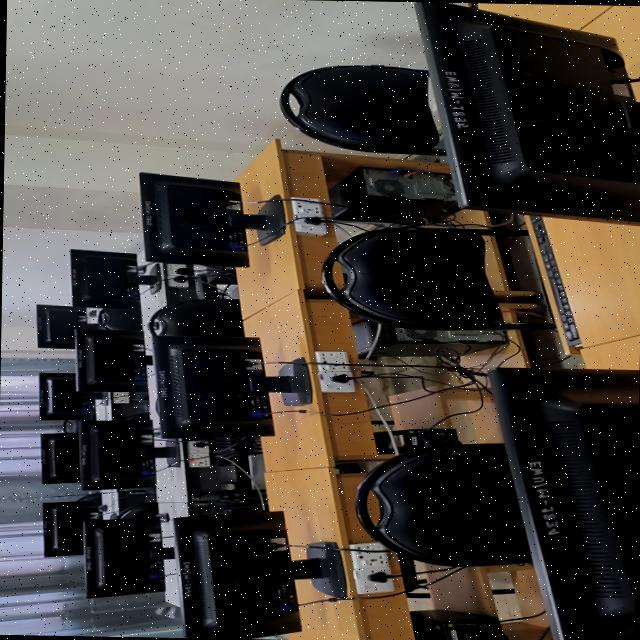Chair: (321, 227, 555, 330), (355, 443, 530, 566), (278, 65, 444, 155), (147, 298, 243, 336), (94, 308, 139, 331), (108, 502, 157, 518)
Cpu: (328, 167, 454, 223), (352, 319, 506, 358)
Keyboard: (530, 216, 580, 346)
Monitor: (413, 2, 640, 225), (489, 368, 639, 640), (172, 511, 345, 639), (151, 336, 310, 438), (139, 172, 284, 266), (82, 514, 173, 597), (78, 419, 177, 489), (69, 249, 158, 307), (74, 329, 149, 390), (41, 494, 98, 556), (37, 372, 92, 420), (35, 304, 83, 348), (39, 432, 77, 483)
